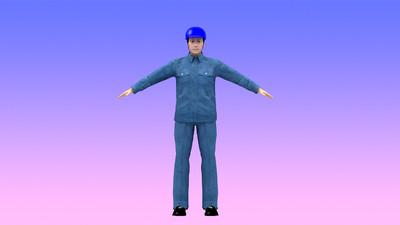helmet: (185, 27, 208, 43)
